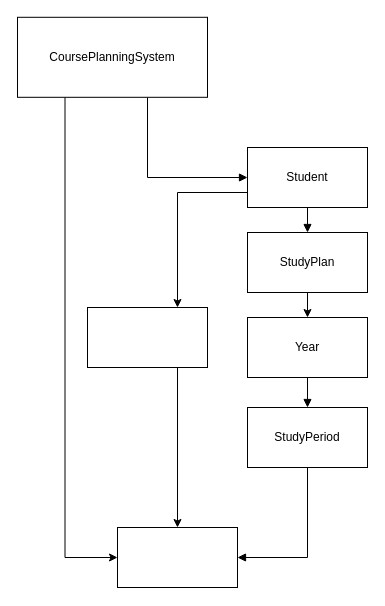
This 385x606 diagram has some shape labels left out. Here are the shapes that lost their labels. From the top down, the centre of each, then its label:
At [147,337]: "Workspace".
At [177,557]: "Course".
